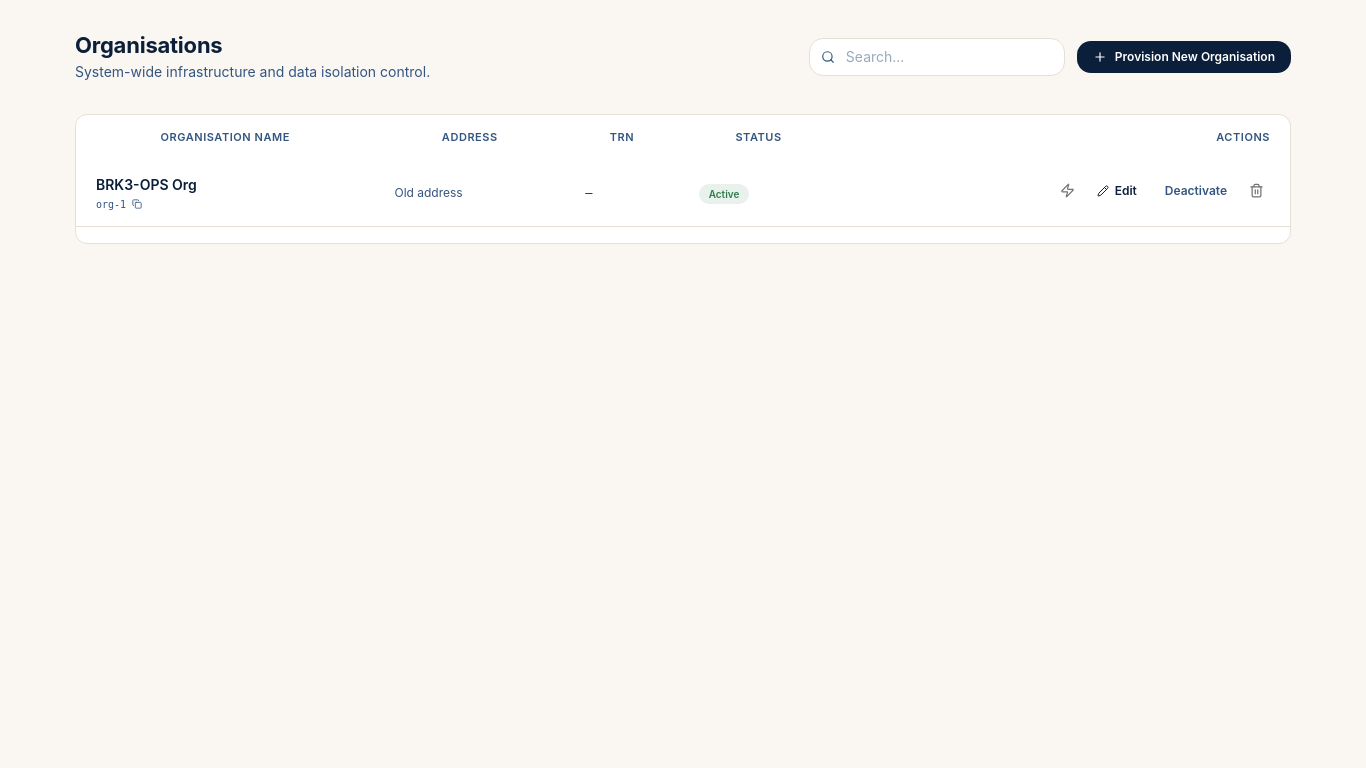
Test case: superadmin: edit organisation (F6) › 409 org.changed reloads the dialog with the current values and says so
The image size is (1366, 768).
Expected: the text "BRK3-OPS Org" is shown, [96,176,197,193]
Step 1. Click the button "Edit" → (1117, 191), box [1085,177,1149,205]
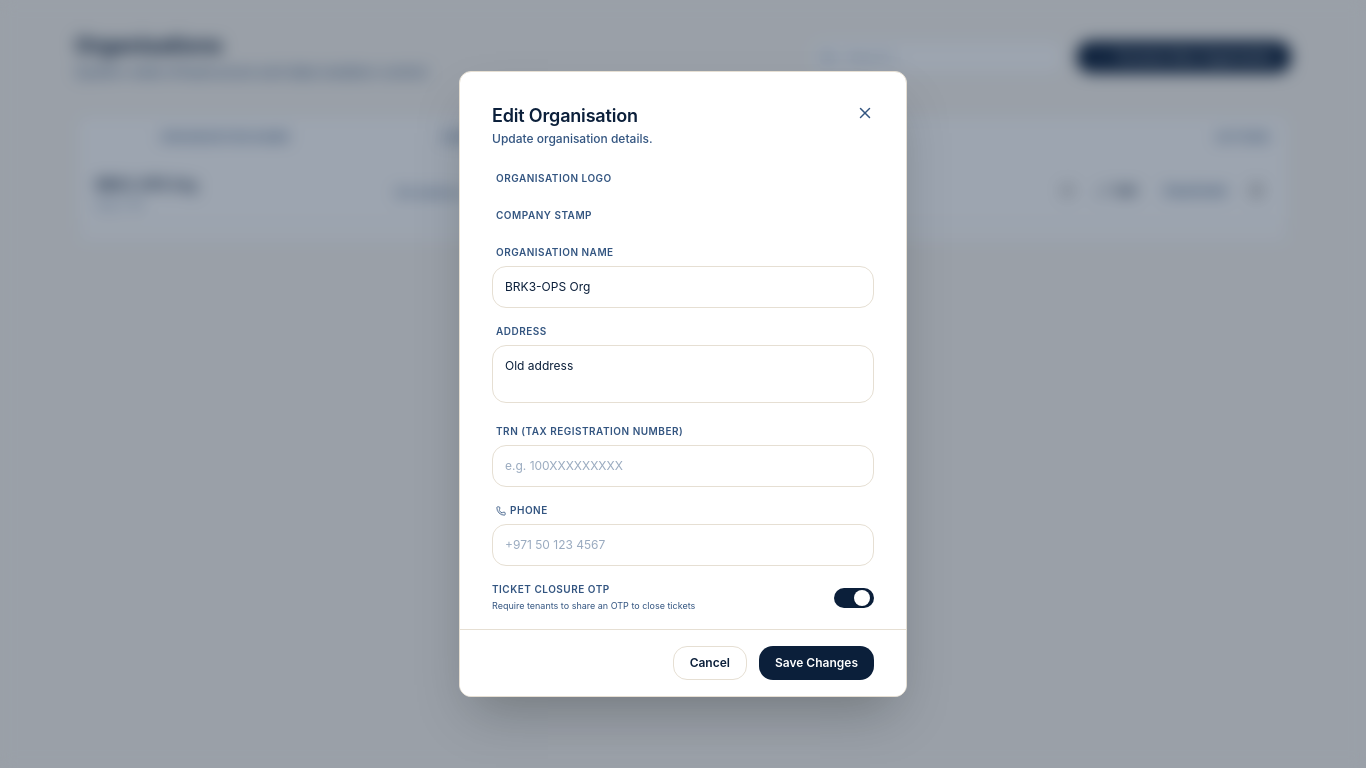
Step 2. Replace the text in the text box showing "Old address" with "Tab A address" → (683, 374), box [492,345,874,403]
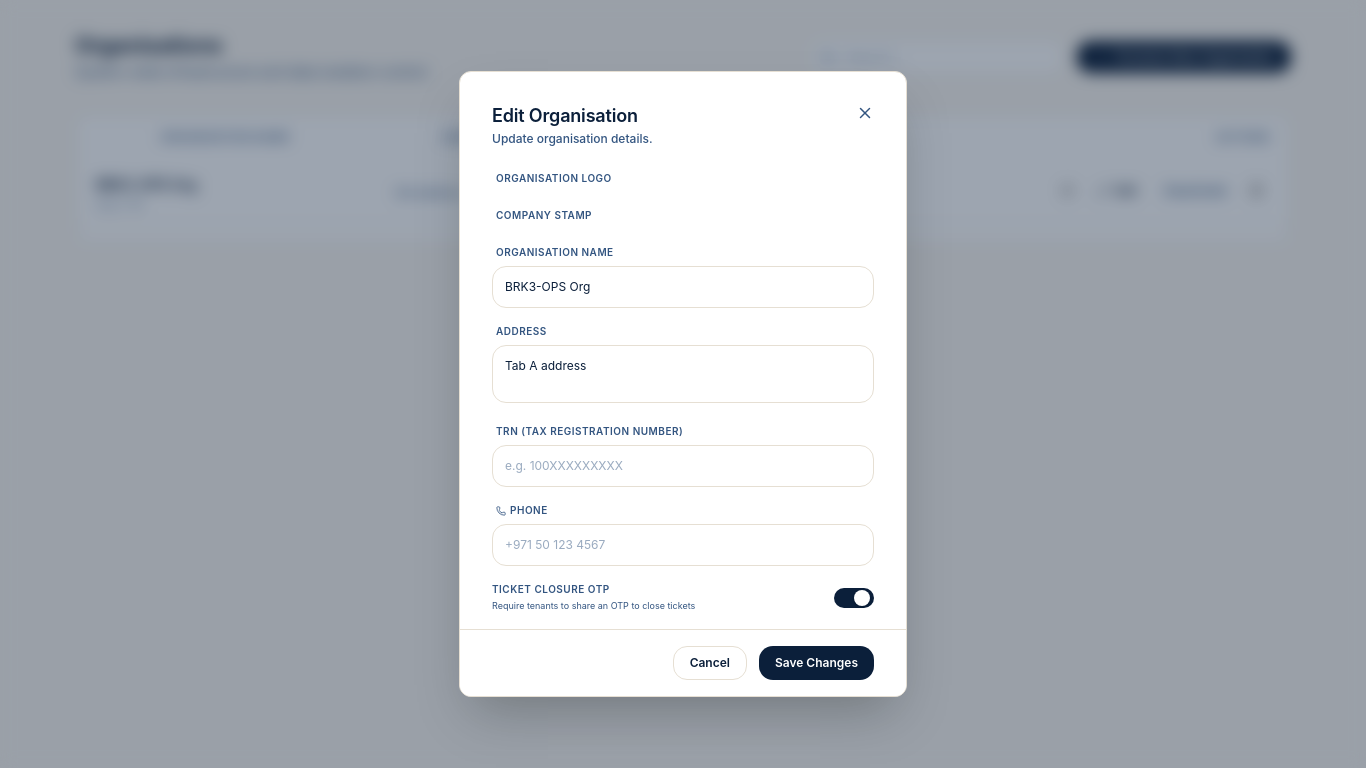
Step 3. Submit the form showing "Tab A address", box [460,171,906,696]
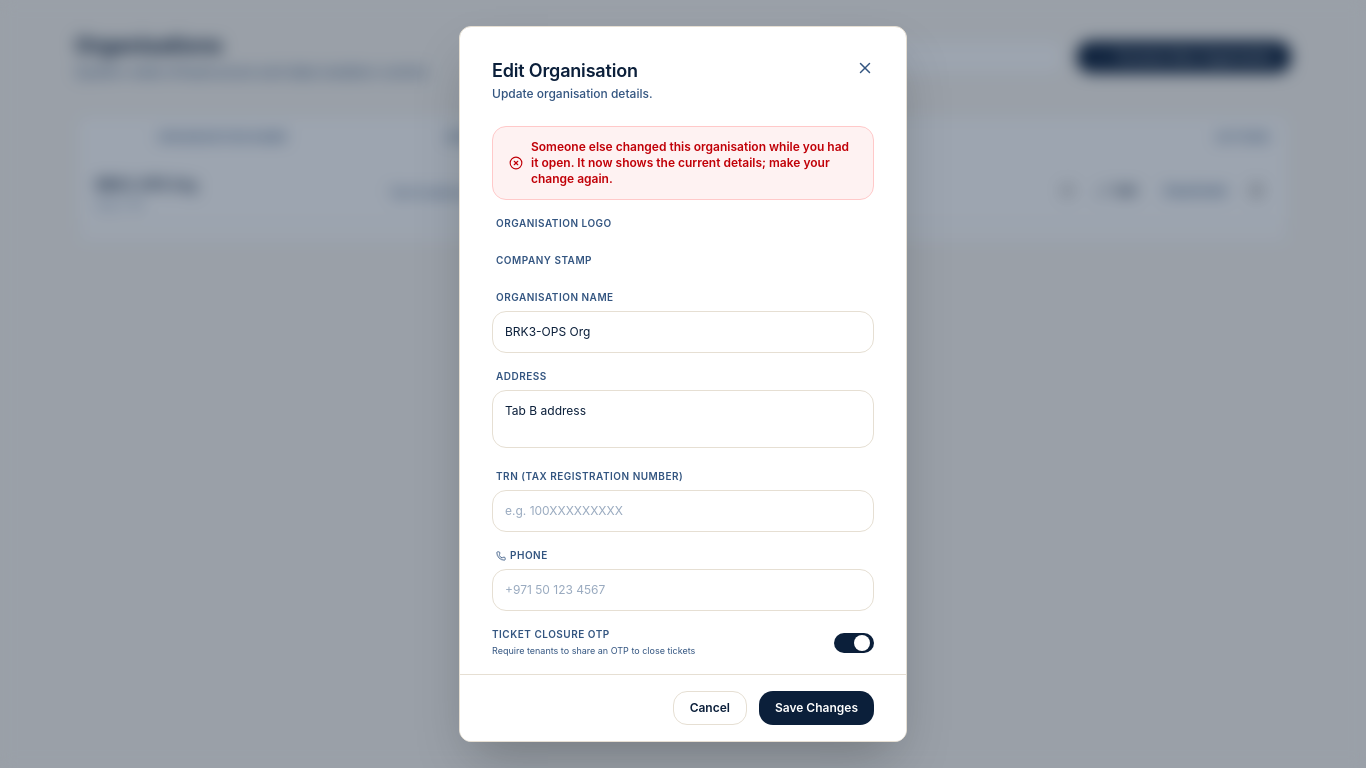
Now the text "Someone else changed this organisation while you had it open. It now shows the current details; make your change again." is shown, box [531,139,849,186]
Now the text box showing "Tab B address" is shown, box [492,390,874,448]
